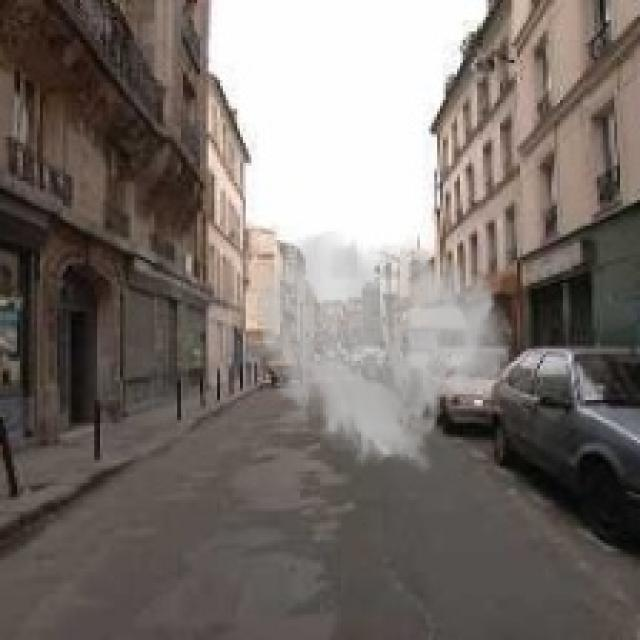Smoke: (248, 228, 514, 474)
